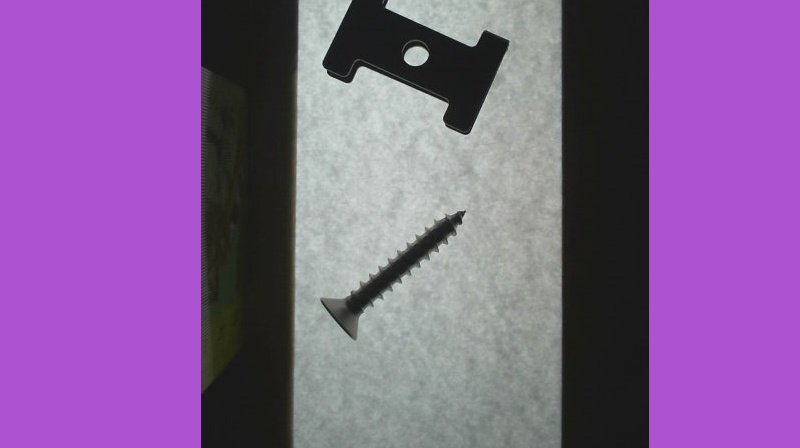O002: (323, 0, 512, 137)
S001: (317, 204, 470, 341)
